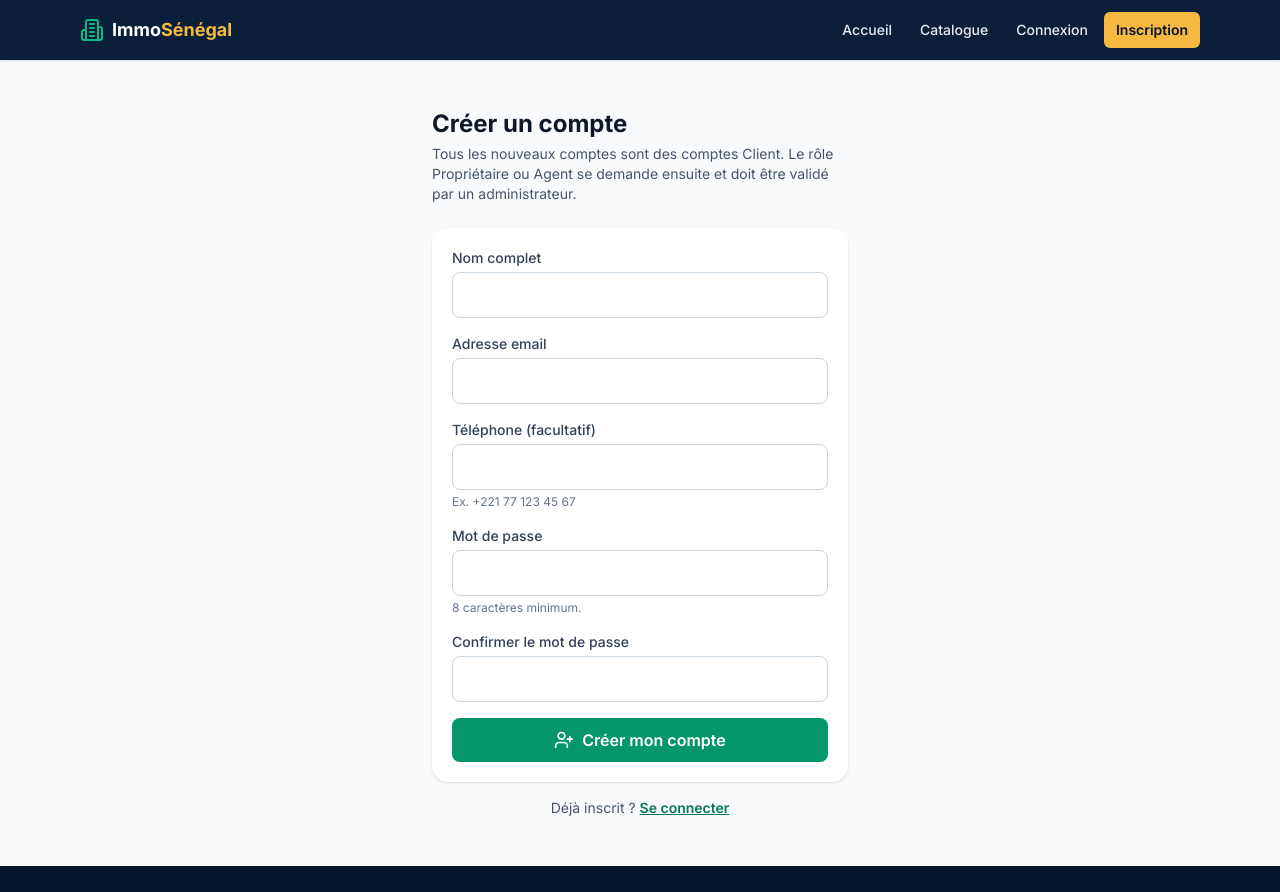
it: Inscription › n'envoie aucun champ « role » au serveur et connecte après l'inscription
Type "Khady Test" into the field labelled "Nom complet" at x=640, y=295, box [452,272,828,318]
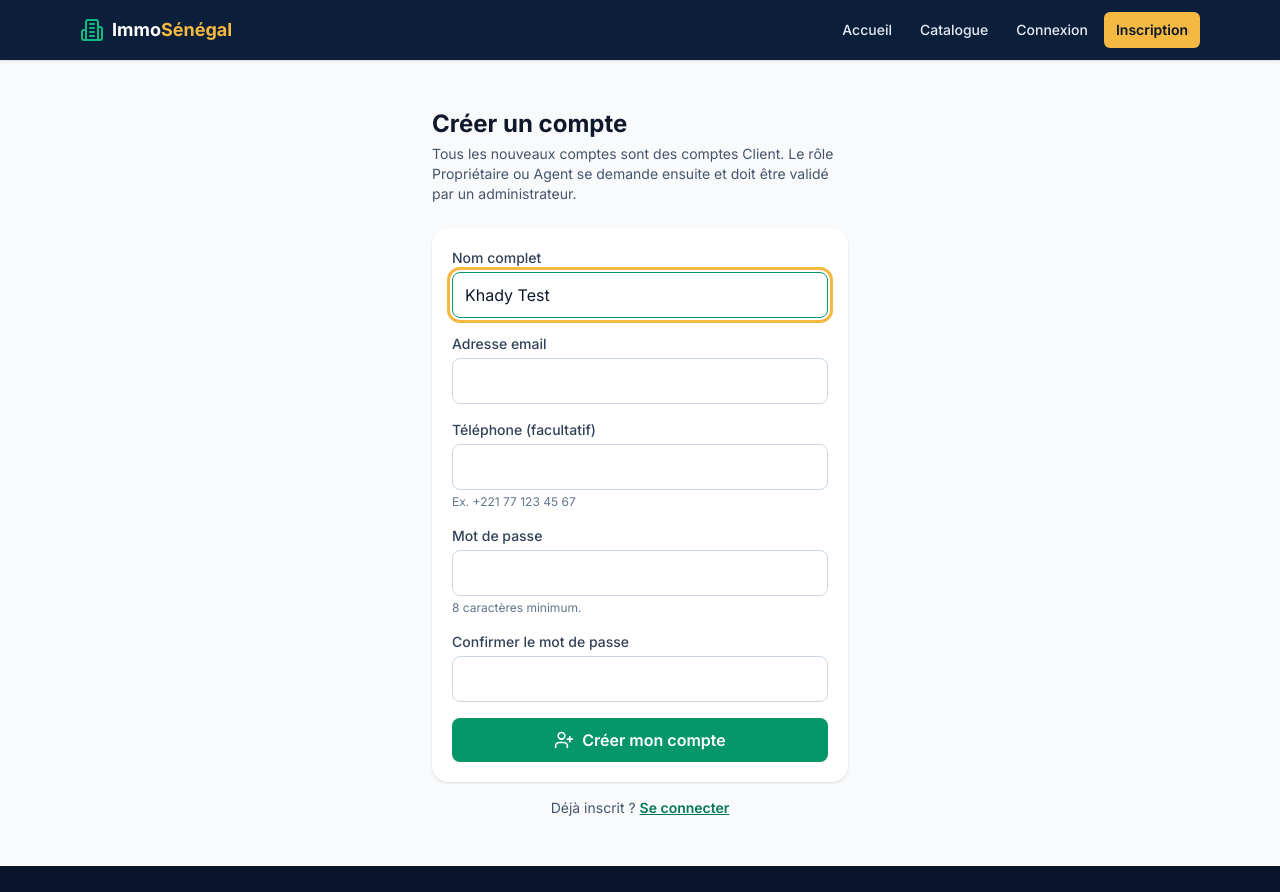
Type "khady@example.test" into the field labelled "Adresse email" at x=640, y=381, box [452,358,828,404]
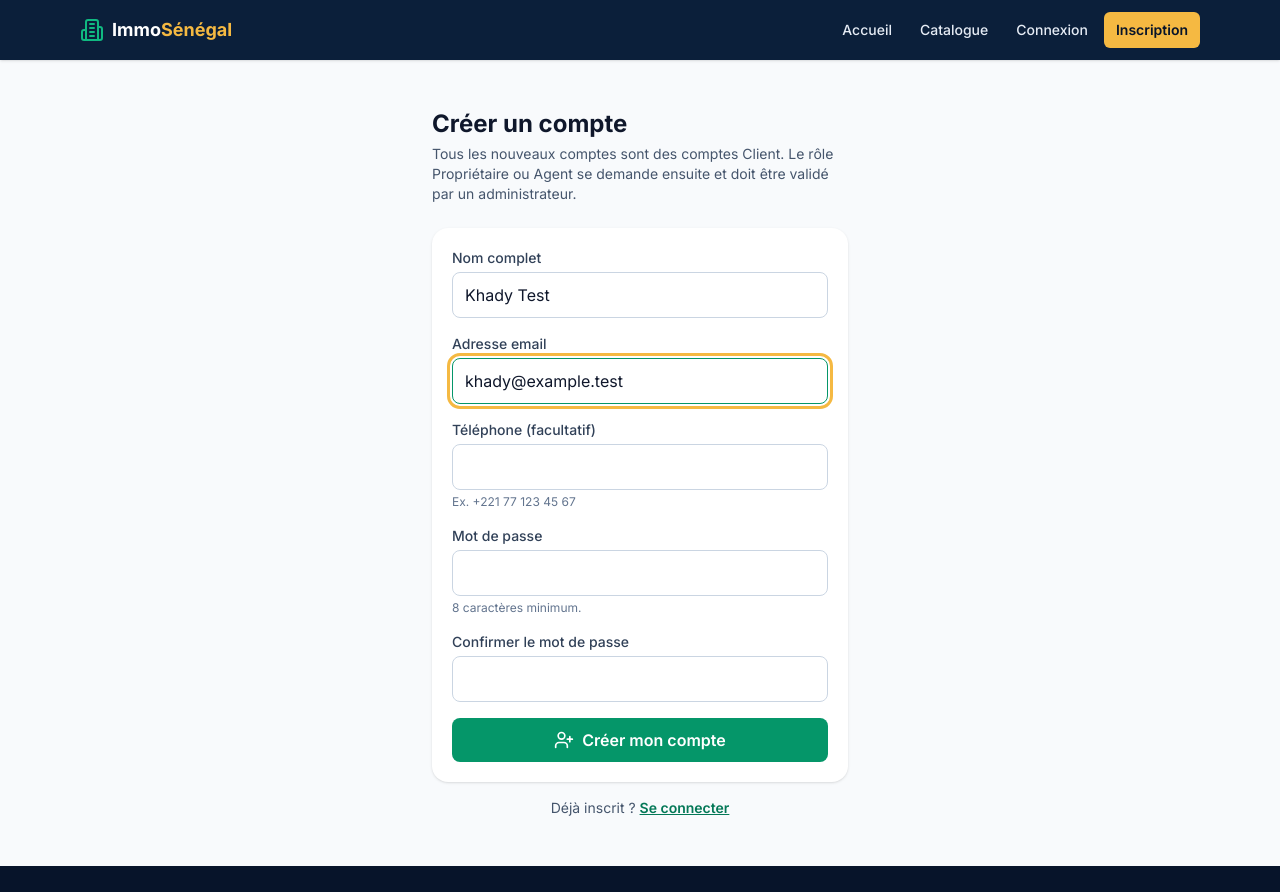
Type "MotDePasse-Solide-123" into the password field labelled "Mot de passe" at x=640, y=573, box [452,550,828,596]
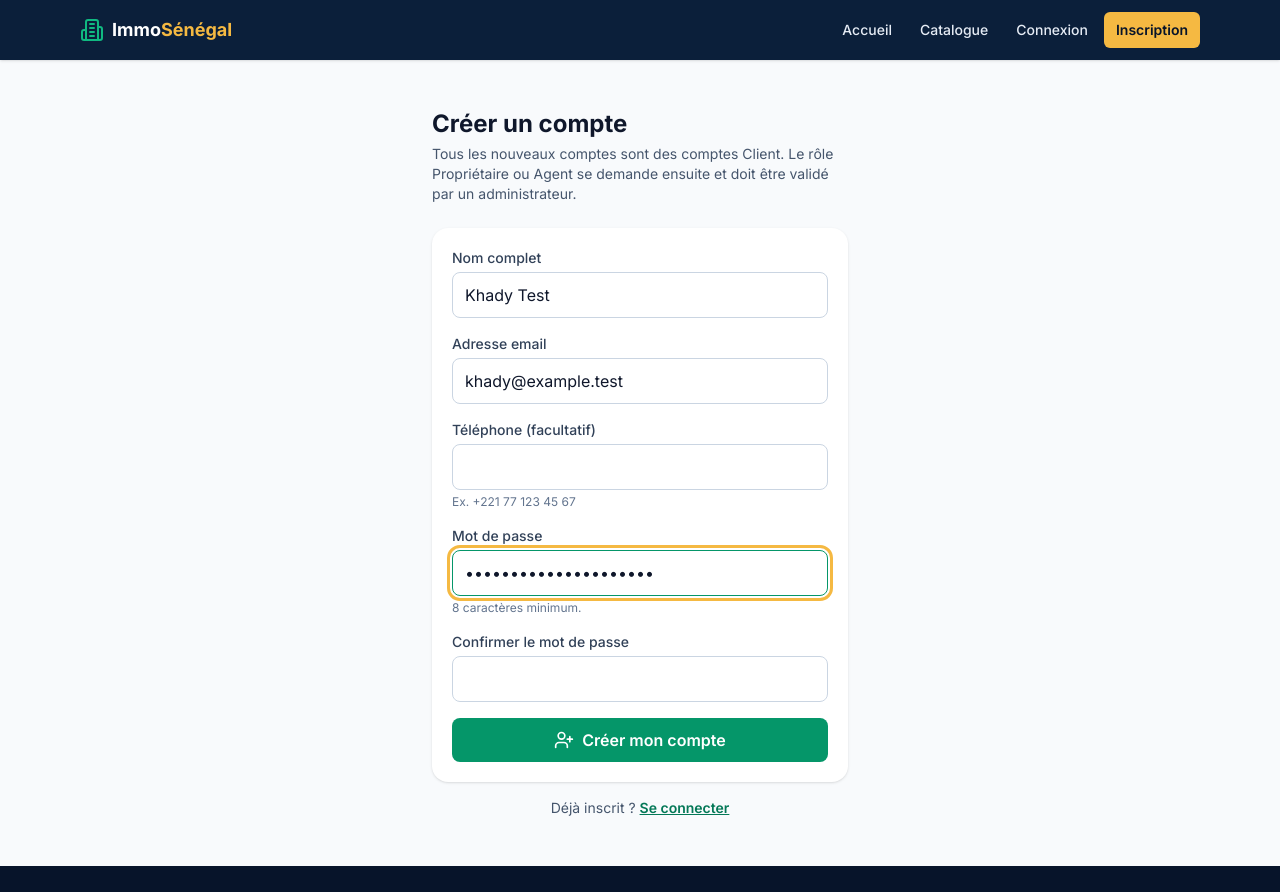
Type "MotDePasse-Solide-123" into the password field labelled "Confirmer le mot de passe" at x=640, y=679, box [452,656,828,702]
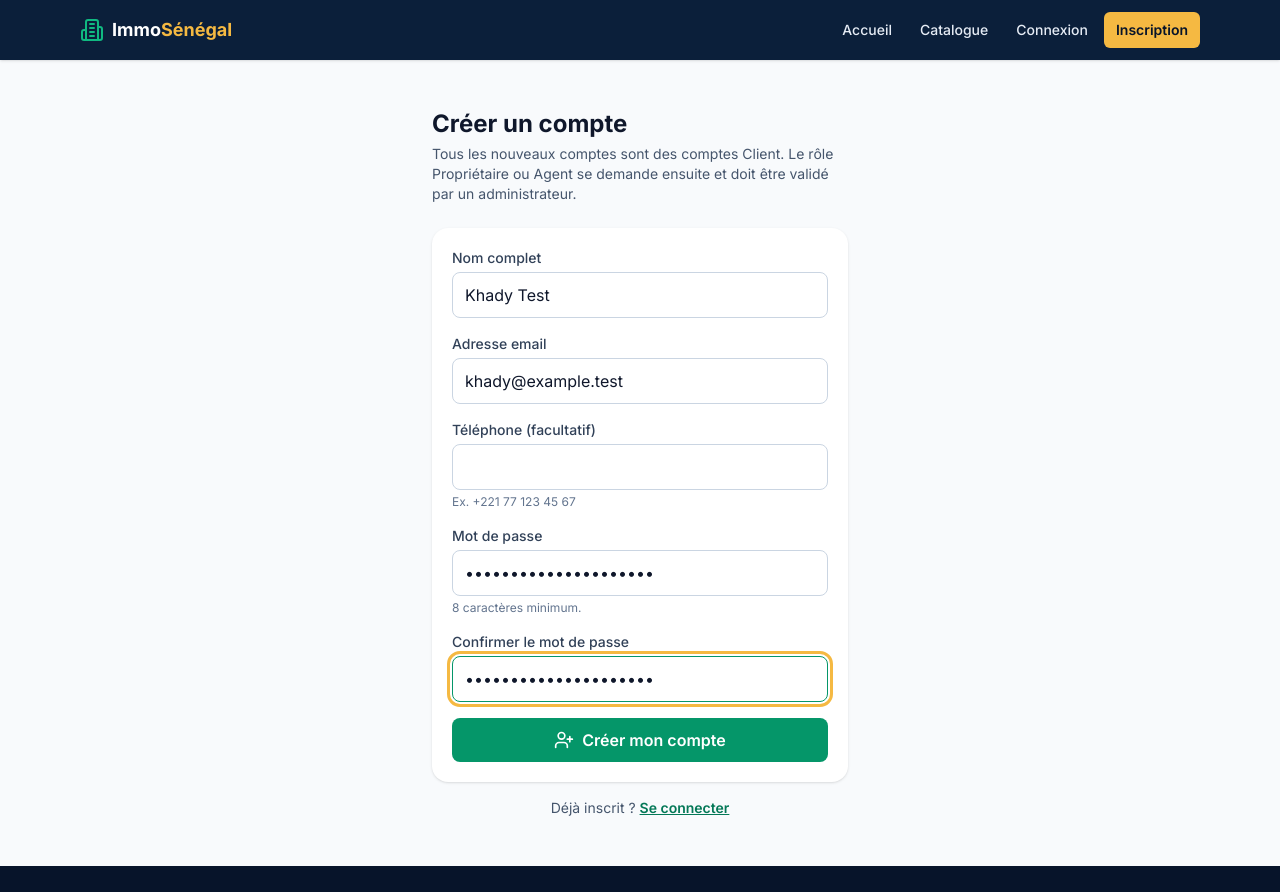
Click the button "Créer mon compte" at x=640, y=740, box [452,718,828,762]
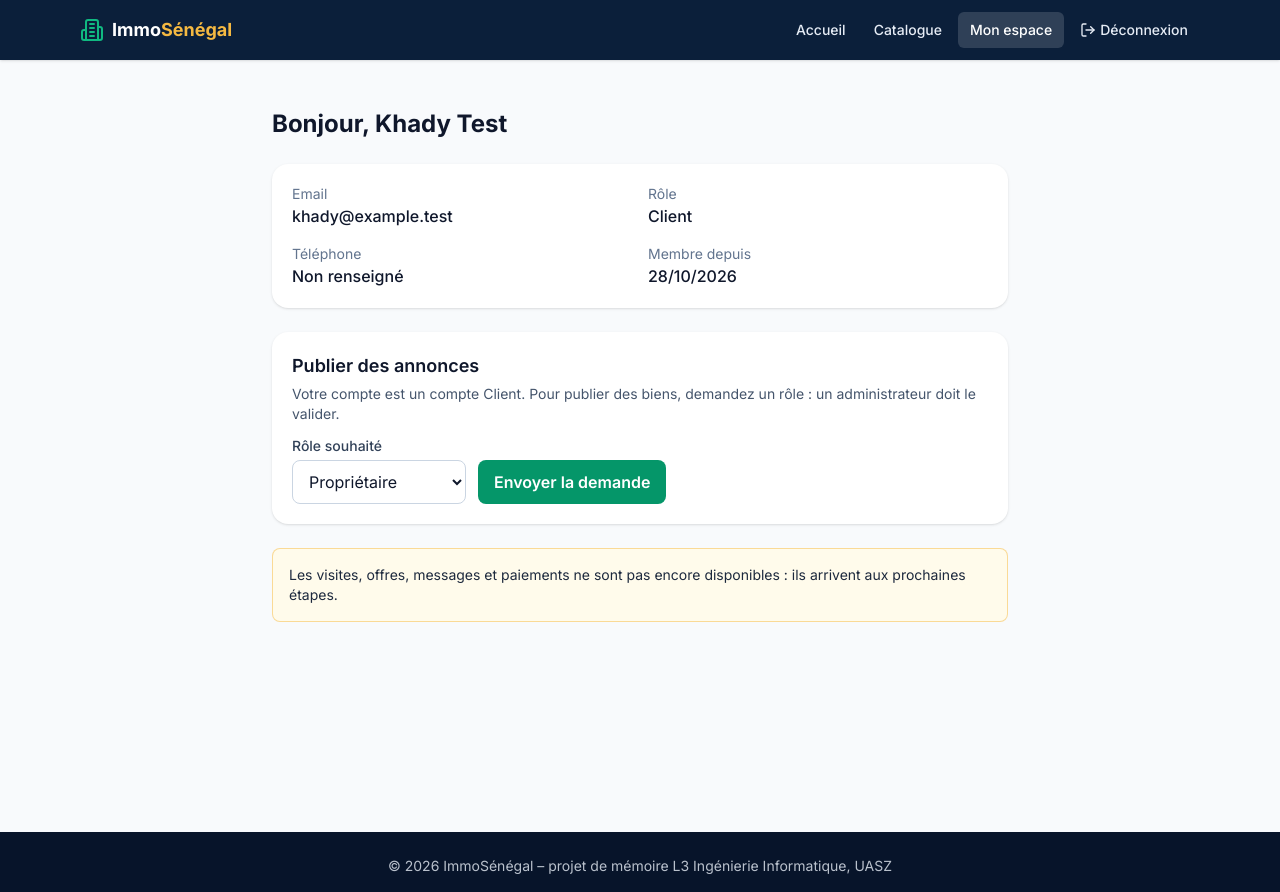
Expected: the heading "Bonjour, Khady Test" is shown, [272,109,507,138]
